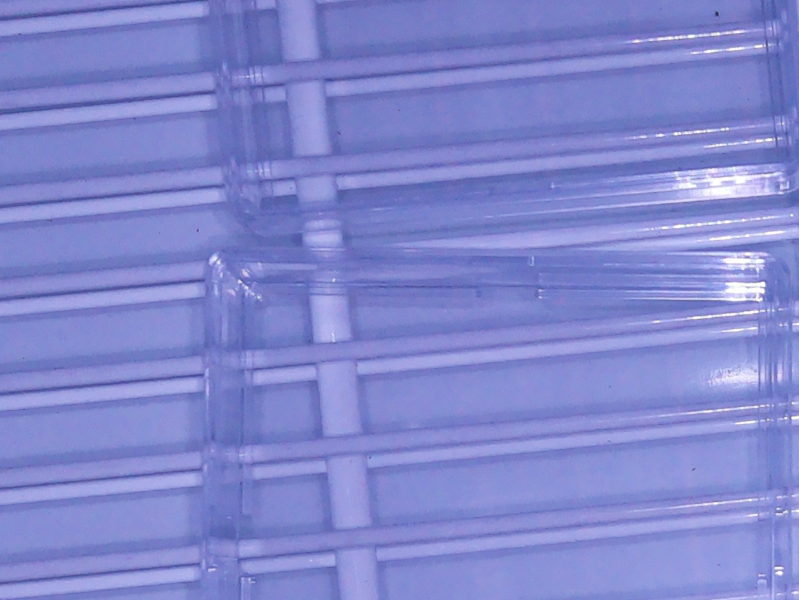plate: (199, 244, 799, 600), (203, 1, 799, 248)
